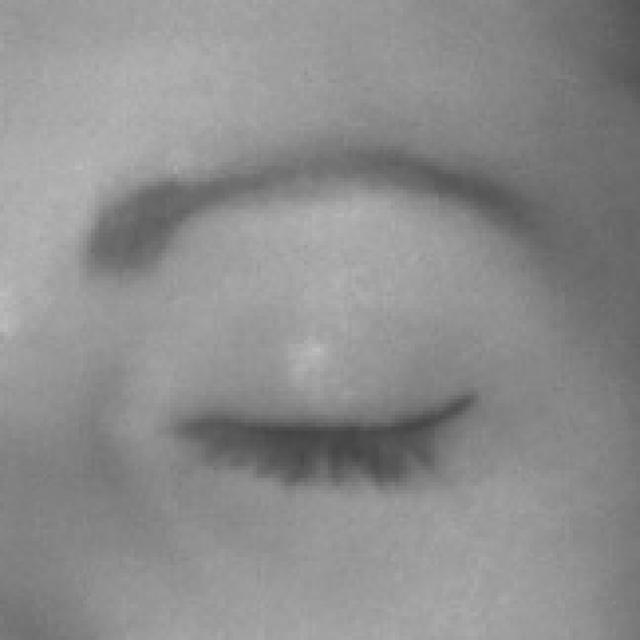close: (35, 67, 640, 584)
